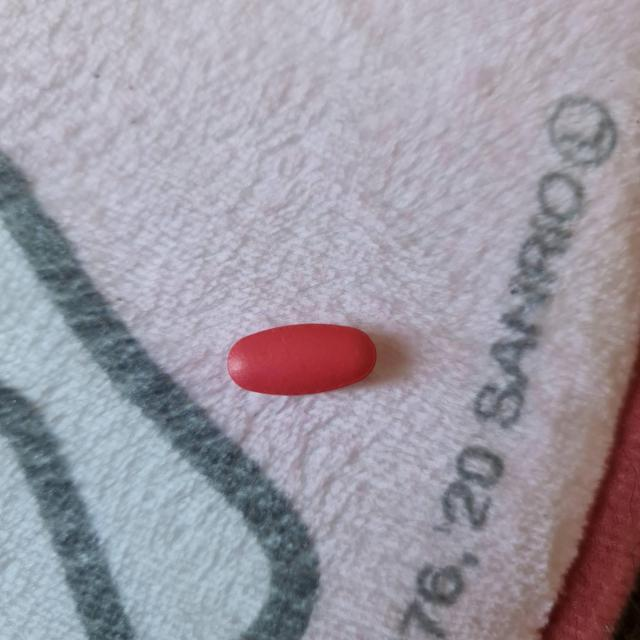pill: (228, 324, 376, 396)
